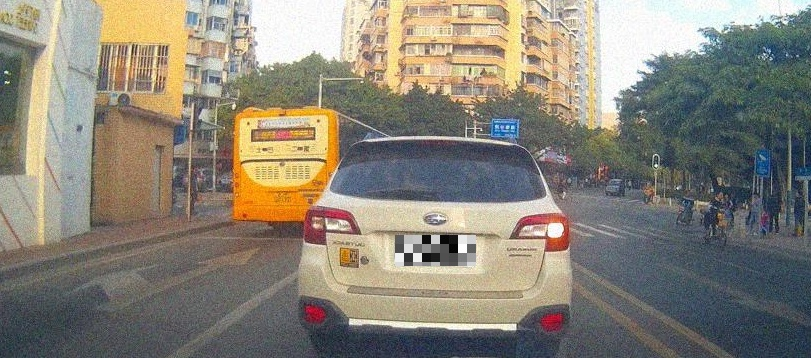L_light: (301, 205, 361, 247)
R_light: (509, 212, 570, 252)
T_light: (422, 140, 458, 146)
day-right: (296, 136, 573, 358)
plate_1: (395, 235, 476, 266)
